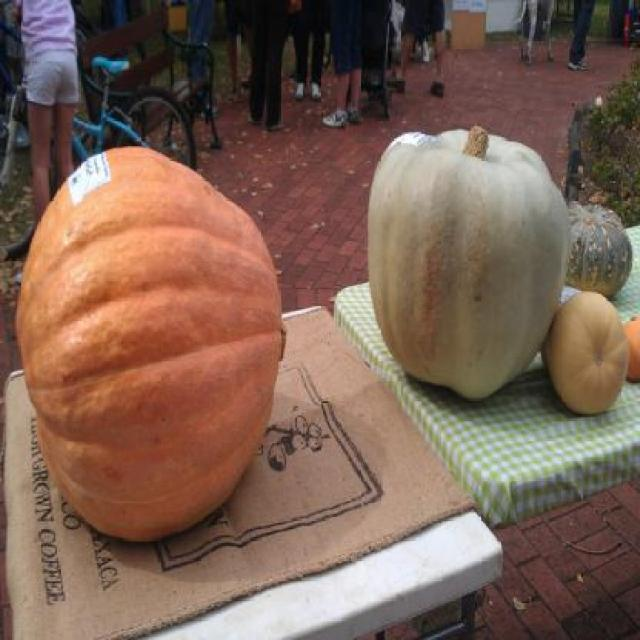Pumpkin: (15, 142, 288, 540), (365, 114, 570, 410), (548, 284, 626, 416), (559, 198, 635, 296), (622, 312, 638, 390)
